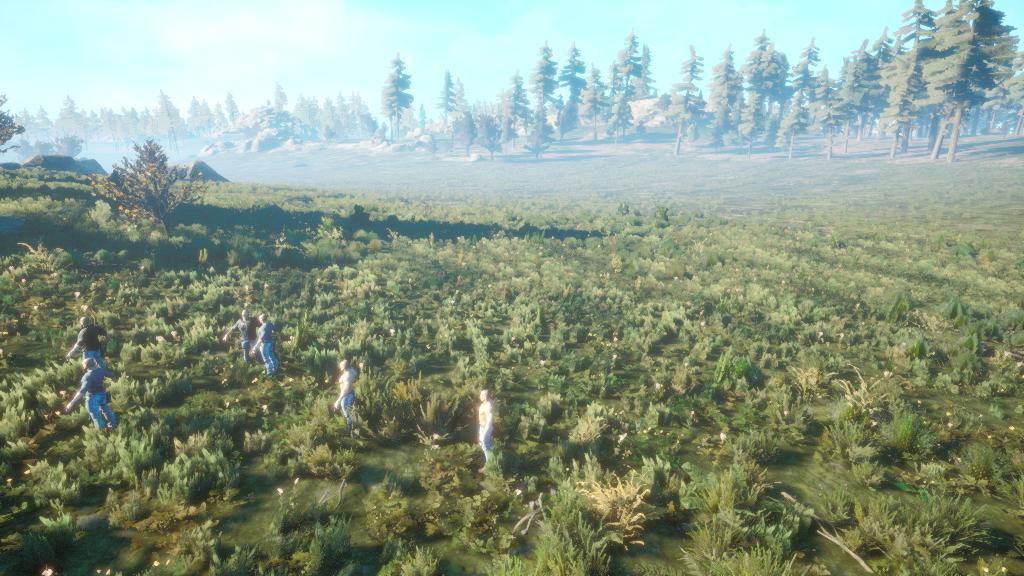human: (214, 289, 303, 390), (44, 289, 123, 366), (64, 358, 121, 435), (329, 352, 370, 451), (464, 381, 505, 476)
